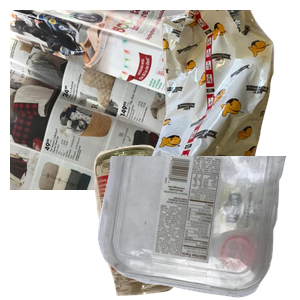glass: (91, 142, 260, 300)
paper: (10, 10, 250, 190)
plastic: (95, 156, 300, 300)
trash: (127, 10, 300, 190)
